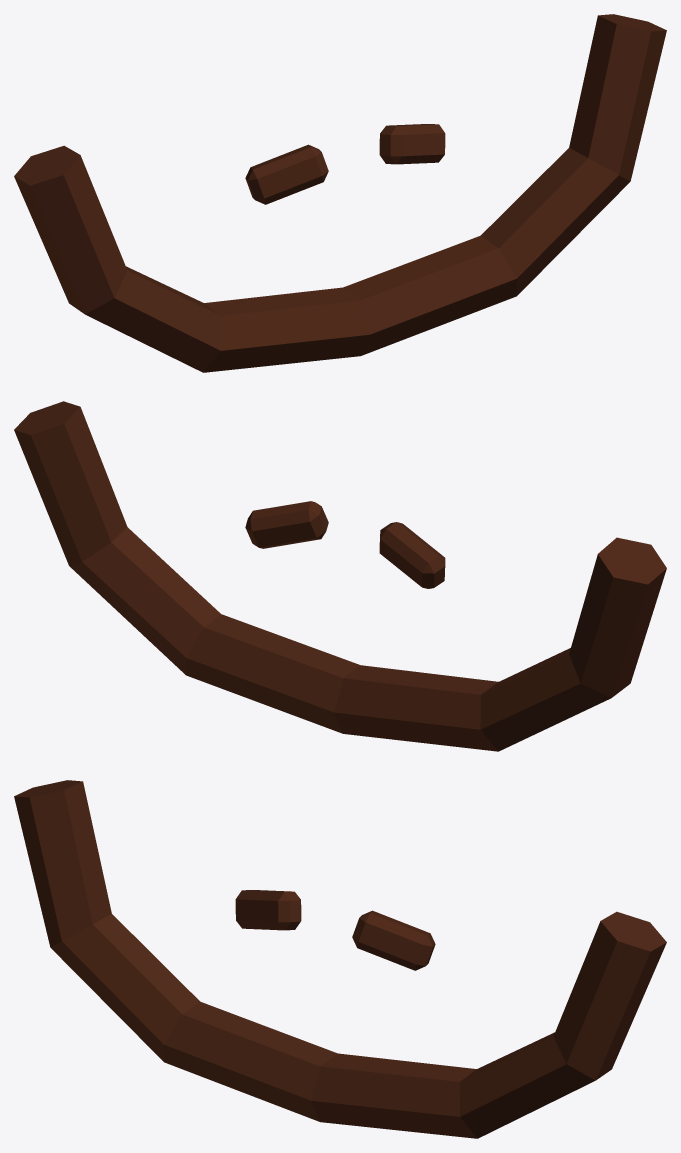
Rendered from SM_NPC_FacialHair_02_Beard.glb.
The picture shows the model from 3 angles, top to bottom: view 1: azimuth 30°, elevation 25°; view 2: azimuth 150°, elevation 25°; view 3: azimuth 330°, elevation 25°; orthographic projection.
Visible parts, largest first — view 1: SM_NPC_FacialHair_02_Beard; view 2: SM_NPC_FacialHair_02_Beard; view 3: SM_NPC_FacialHair_02_Beard.
Boxes of the visible parts, x1,y1,x2,y2 form: SM_NPC_FacialHair_02_Beard: (14,14,666,372); SM_NPC_FacialHair_02_Beard: (14,401,666,751); SM_NPC_FacialHair_02_Beard: (14,780,666,1138).
Size of the model in its own units: 0.5179 by 0.2003 by 0.0668.
